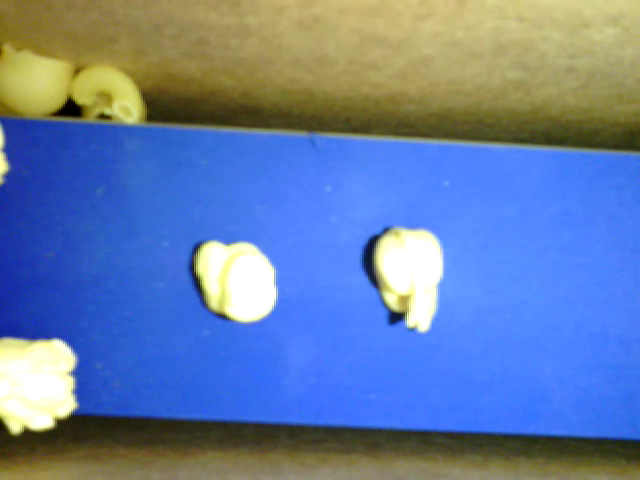elbow: (67, 63, 142, 121)
shell: (1, 44, 74, 114), (82, 93, 147, 124)
